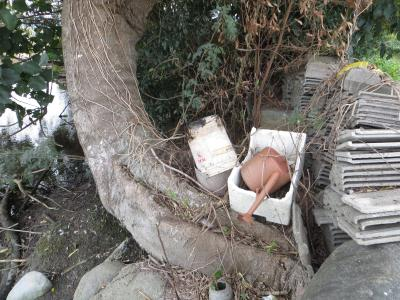bowl: (236, 143, 293, 195)
bucket: (183, 112, 242, 178)
styrofoam: (224, 124, 307, 229)
